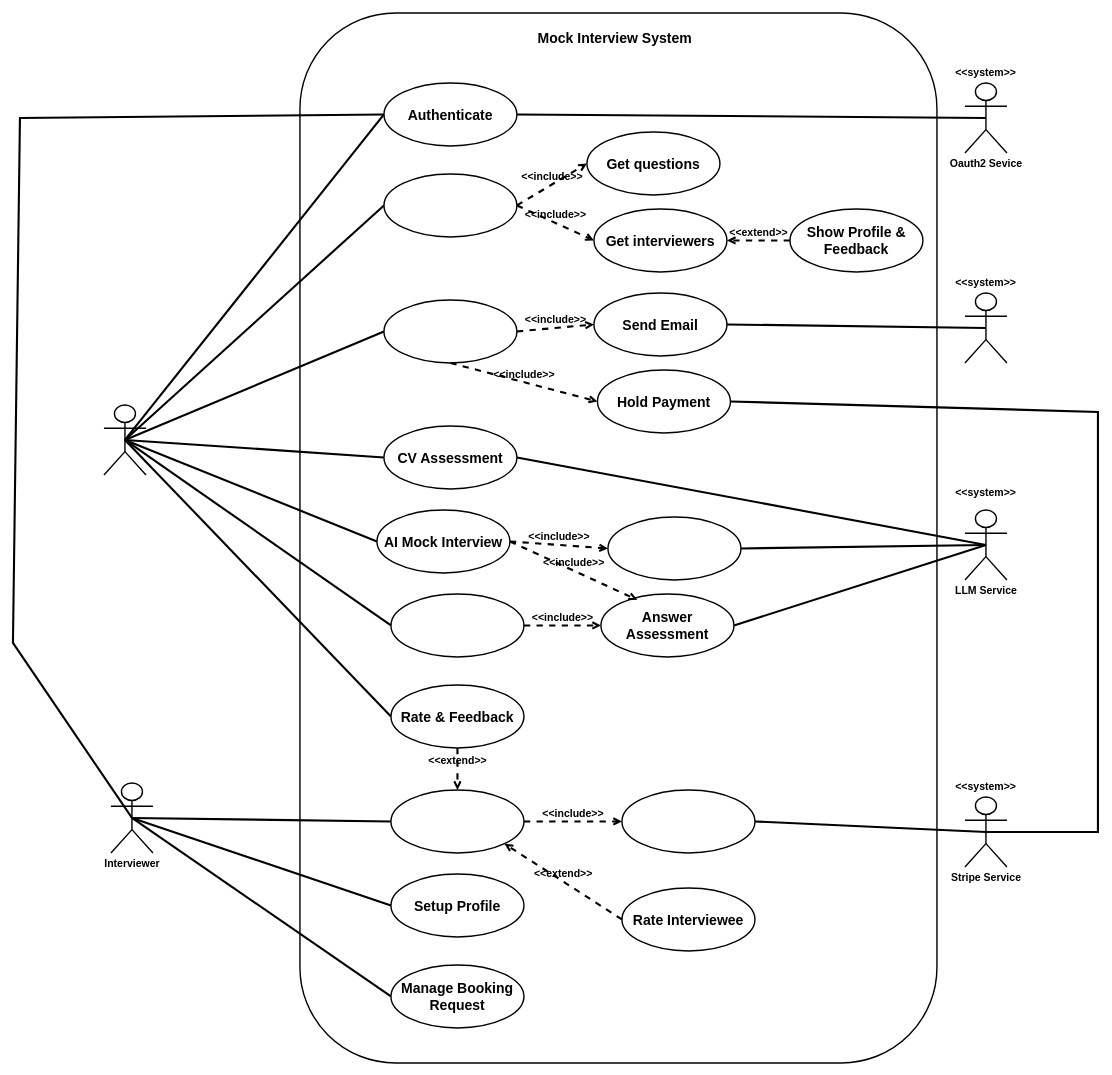
Some shapes in this 1112 by 1075 pixel diagram are drawn without their labels. The shapes that lost their labels are listed below. From the top down, each one's centre as x and y in pixels, then its label:
At point 450,205: "Filter Position".
At point 450,331: "Book Interviewer".
At point 985,327: "Email Service".
At point 124,439: "Interviewee".
At point 674,548: "Prepare Questions".
At point 457,625: "Self-Practice".
At point 457,821: "Complete Interview".
At point 688,821: "Release Payment".
